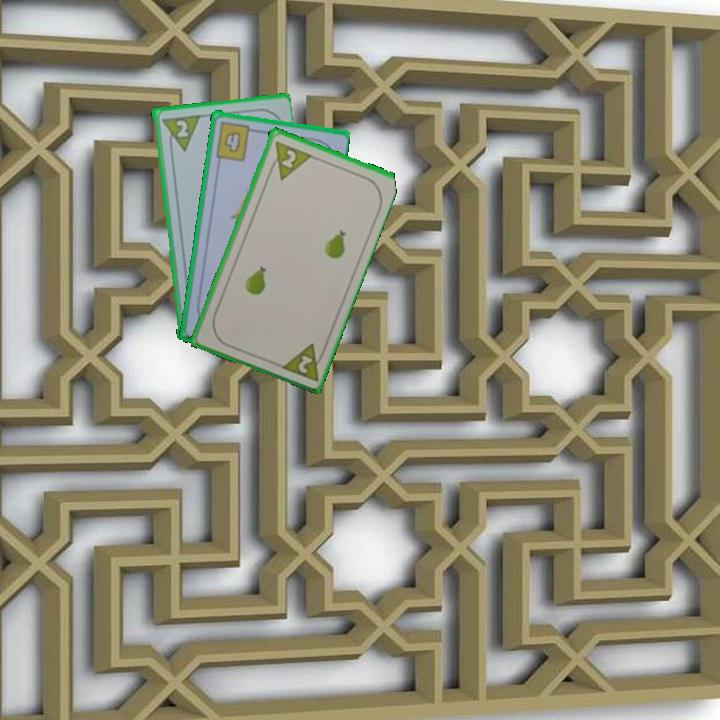2p: (276, 339, 329, 384), (264, 137, 313, 182), (172, 116, 191, 140)
4b: (212, 118, 259, 163)
